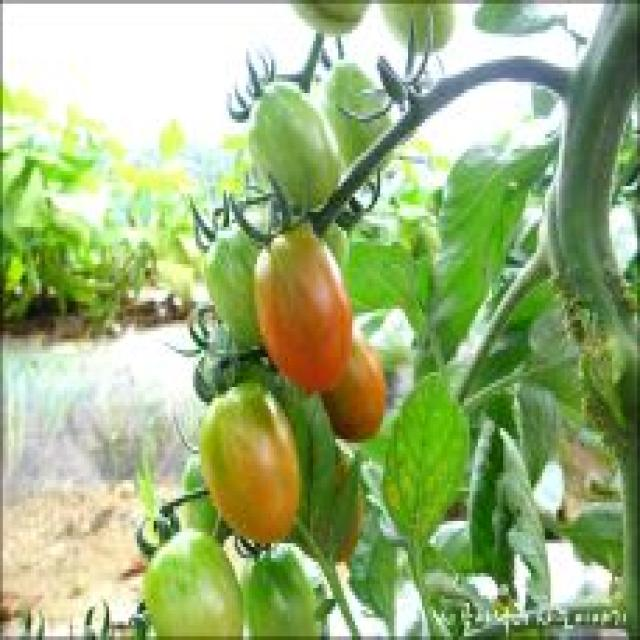level 1: (232, 547, 322, 637)
level 2: (238, 78, 348, 222), (123, 522, 246, 640), (193, 212, 277, 358), (319, 43, 403, 170), (176, 463, 241, 548), (380, 3, 470, 60), (279, 0, 376, 41)
level 4: (184, 371, 311, 550), (276, 428, 370, 581)
level 5: (249, 211, 365, 396), (317, 328, 393, 447)
